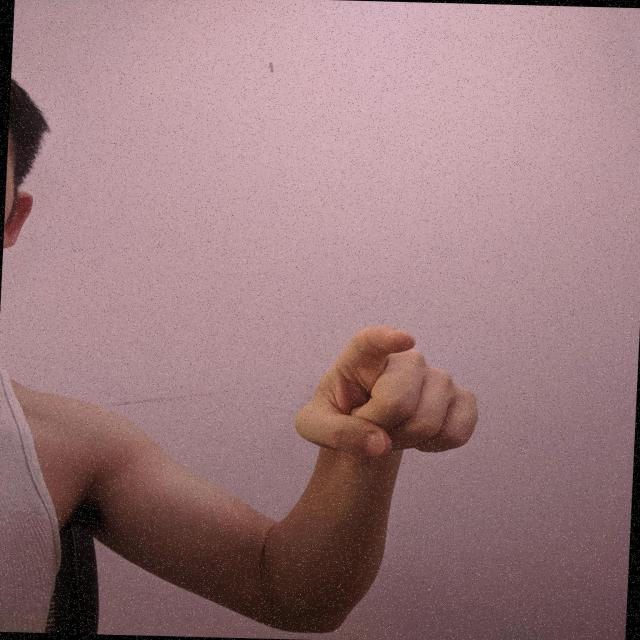Z: (289, 322, 489, 463)
